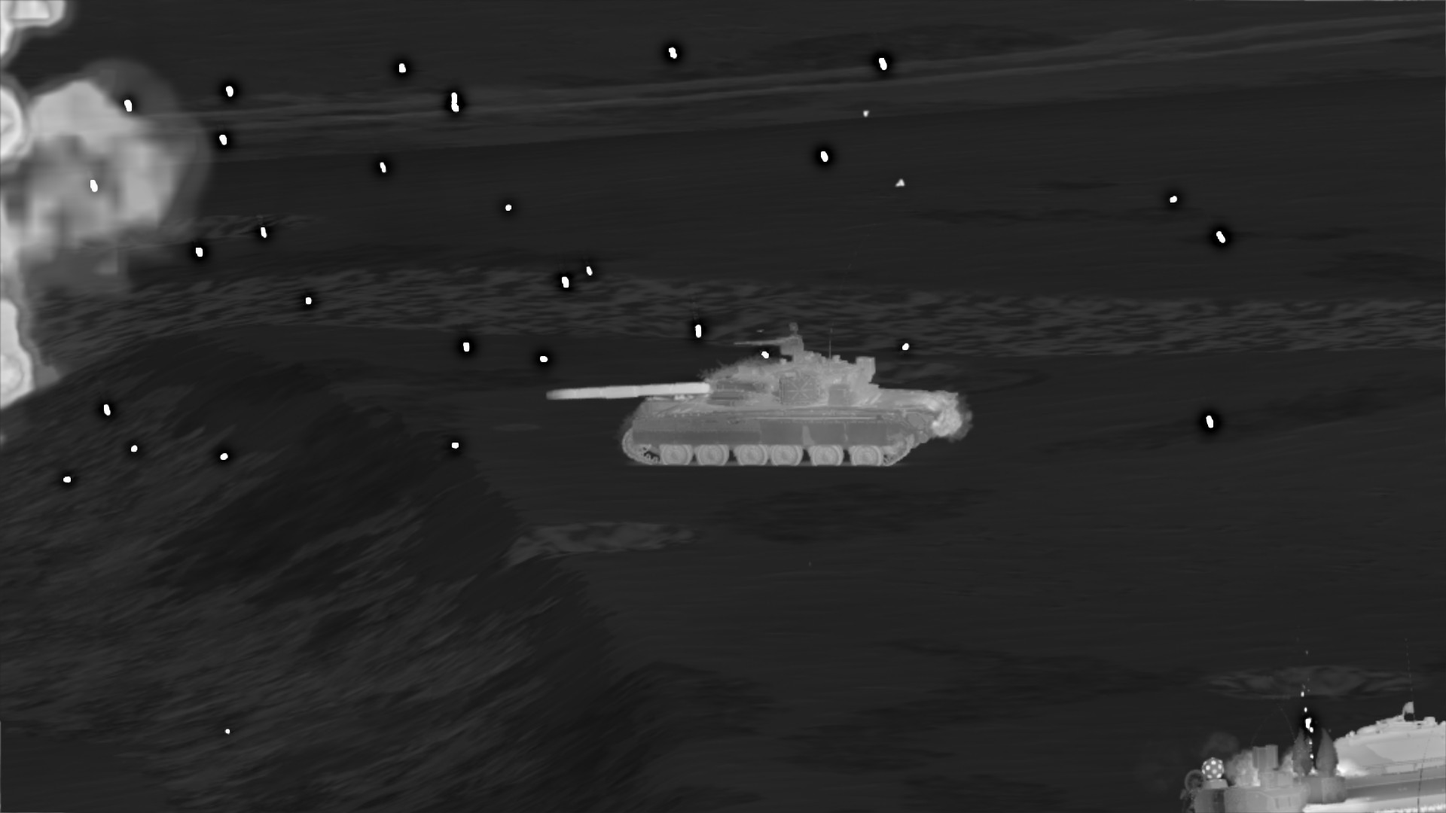t-80u: (524, 335, 969, 471)
